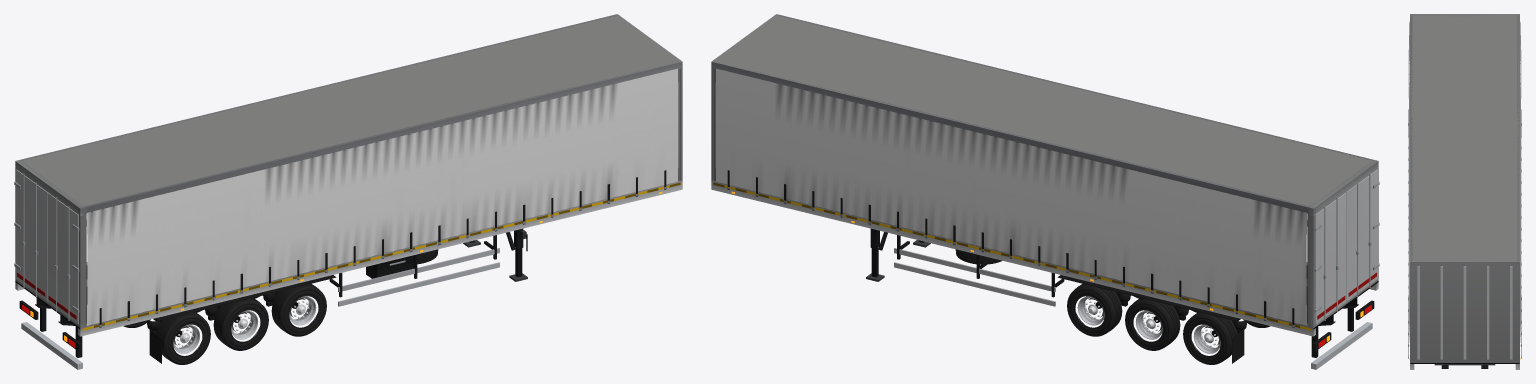
Rendered from trailer-lo-v1.glb.
3 views of the same model, side by side, from view 1: azimuth 30°, elevation 25°; view 2: azimuth 150°, elevation 25°; view 3: azimuth 270°, elevation 25° (orthographic). The views are drawn at different scales.
Parts seen in each view (by area): view 1: curtain_R_geo, body_geo, chassis_geo, door_RL_rear_geo, door_RR_rear_geo, tyre_1R_geo, tyre_2R_geo, tyre_3R_geo, toolbox_geo; view 2: curtain_L_geo, body_geo, chassis_geo, door_RR_rear_geo, door_RL_rear_geo, tyre_1L_geo, tyre_2L_geo, tyre_3L_geo; view 3: body_geo, curtain_L_geo, curtain_R_geo, chassis_geo.
Part boxes in pixels (box(x1,y1,x2,y2)): curtain_R_geo: box(87, 68, 678, 327); body_geo: box(15, 14, 682, 328); chassis_geo: box(15, 180, 682, 369); door_RL_rear_geo: box(14, 169, 47, 301); door_RR_rear_geo: box(47, 192, 79, 324); tyre_1R_geo: box(271, 283, 326, 336); tyre_2R_geo: box(213, 298, 268, 350); tyre_3R_geo: box(156, 312, 210, 364); toolbox_geo: box(366, 255, 414, 278); curtain_L_geo: box(715, 68, 1306, 327); body_geo: box(711, 14, 1378, 328); chassis_geo: box(711, 180, 1378, 369); door_RR_rear_geo: box(1346, 169, 1379, 301); door_RL_rear_geo: box(1314, 192, 1346, 324); tyre_1L_geo: box(1067, 283, 1122, 336); tyre_2L_geo: box(1125, 298, 1180, 350); tyre_3L_geo: box(1183, 312, 1237, 364); body_geo: box(1410, 14, 1519, 363); curtain_L_geo: box(1520, 21, 1521, 358); curtain_R_geo: box(1408, 21, 1409, 358); chassis_geo: box(1409, 358, 1520, 369).
Bounding box in the file's own units: 13.68 × 4 × 2.63.
Materials: 19 (2 with a texture image).
